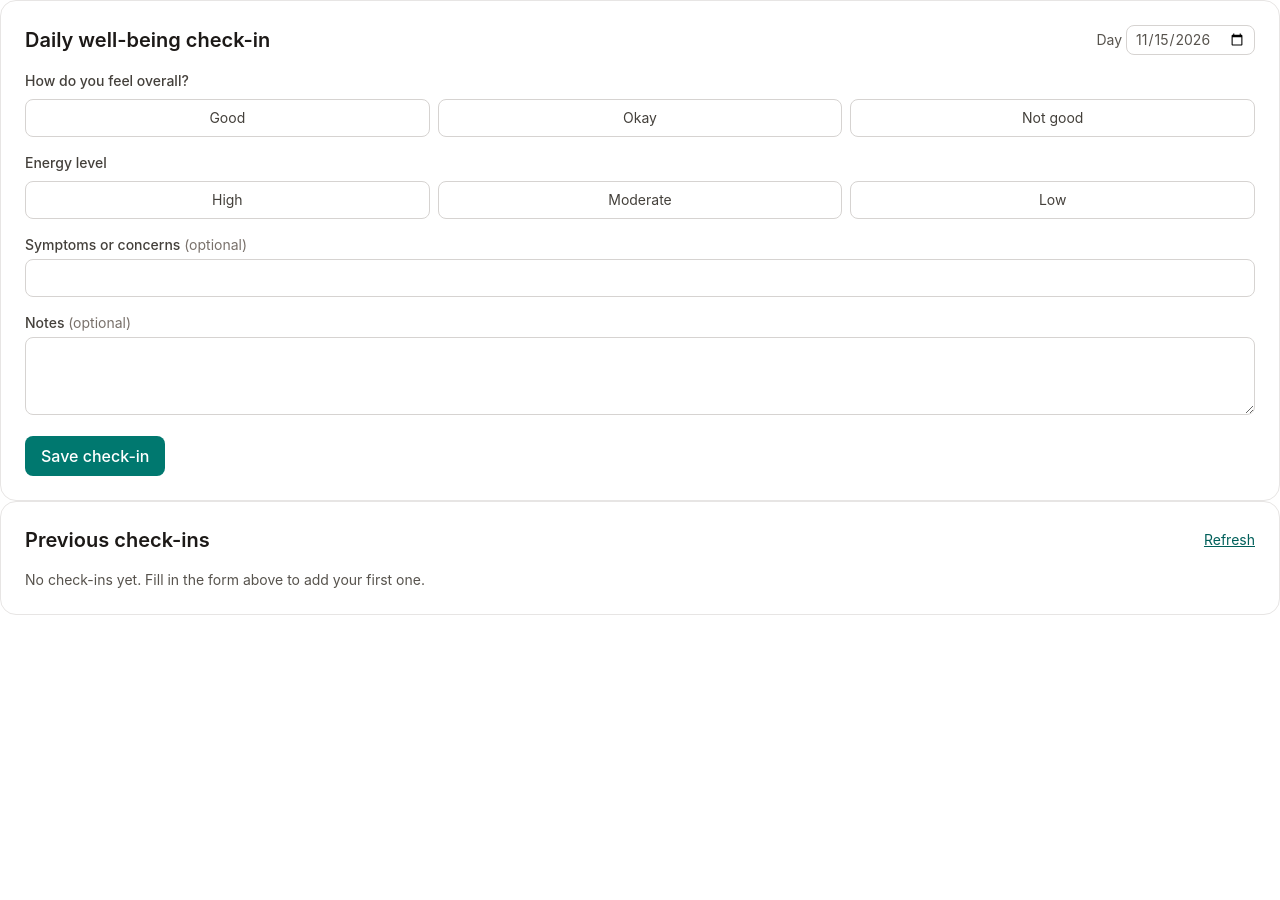
check-in form (parent) › shows the server message and keeps what was typed when saving fails
Expected: the button "Save check-in" is enabled, left=25, top=436, right=165, bottom=476
Click the radio button labelled "Good" at (227, 118), box left=25, top=99, right=430, bottom=137
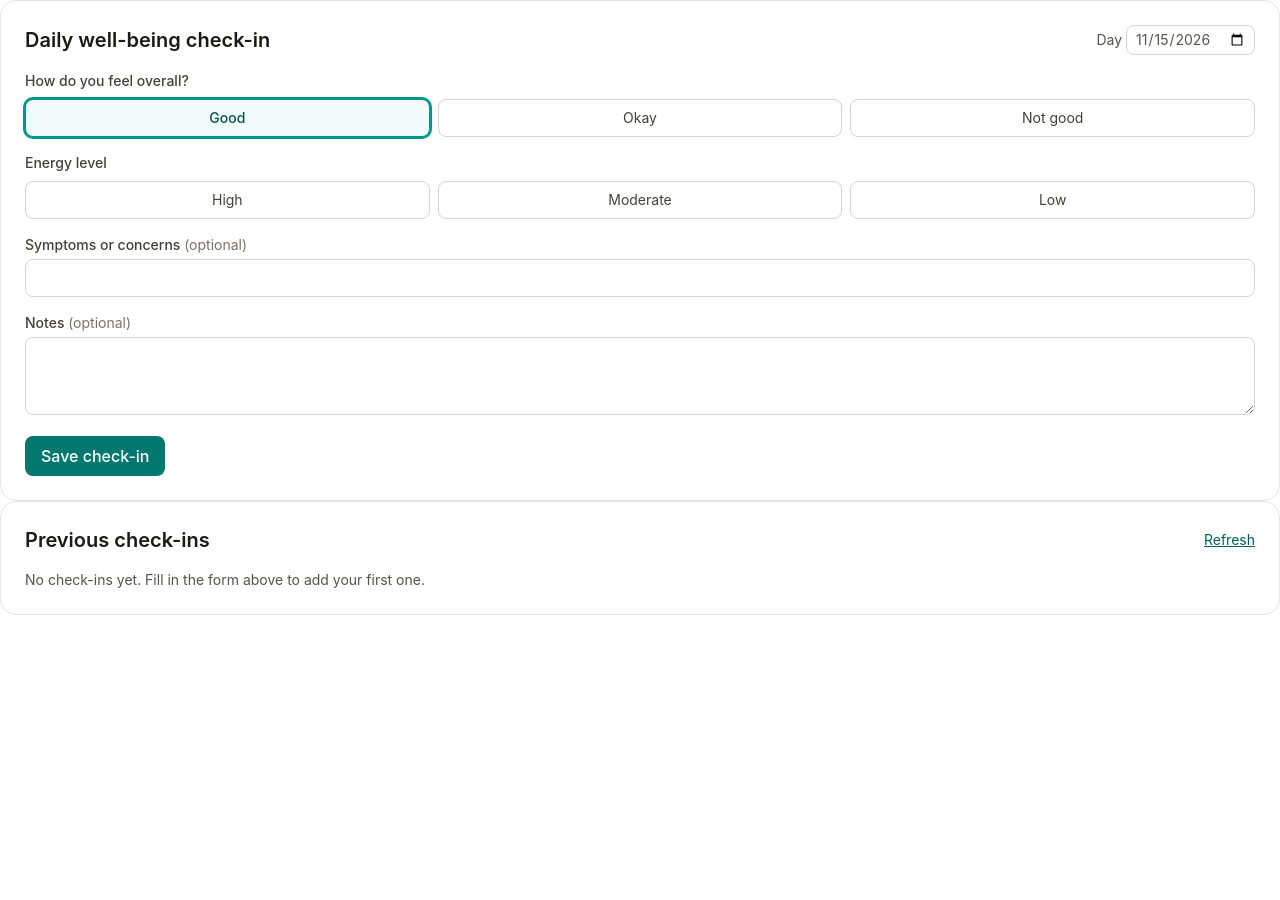
Click the radio button labelled "High" at (227, 200), box left=25, top=181, right=430, bottom=219
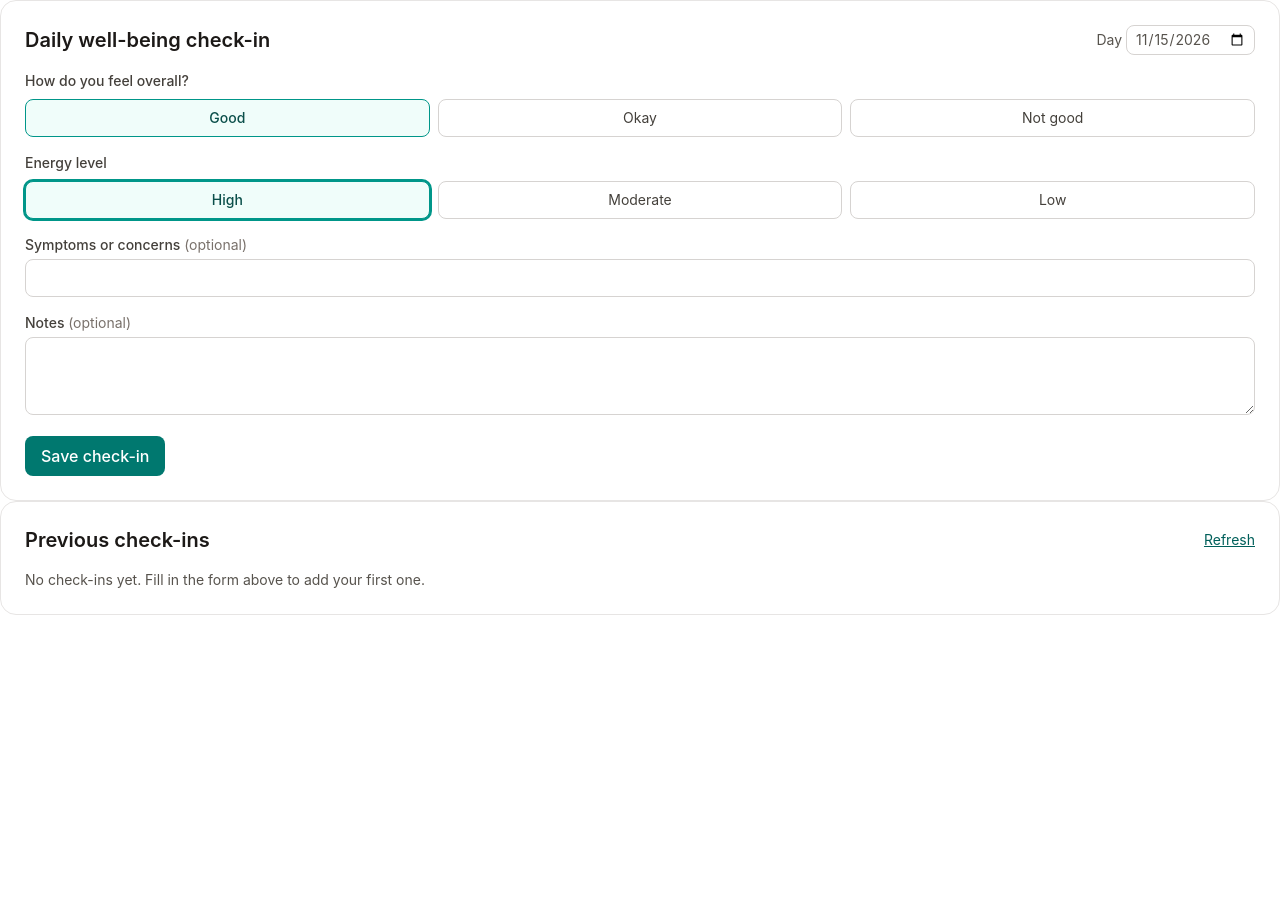
Type "my note" into the text box labelled "Notes (optional)" at (640, 376), box left=25, top=337, right=1255, bottom=415
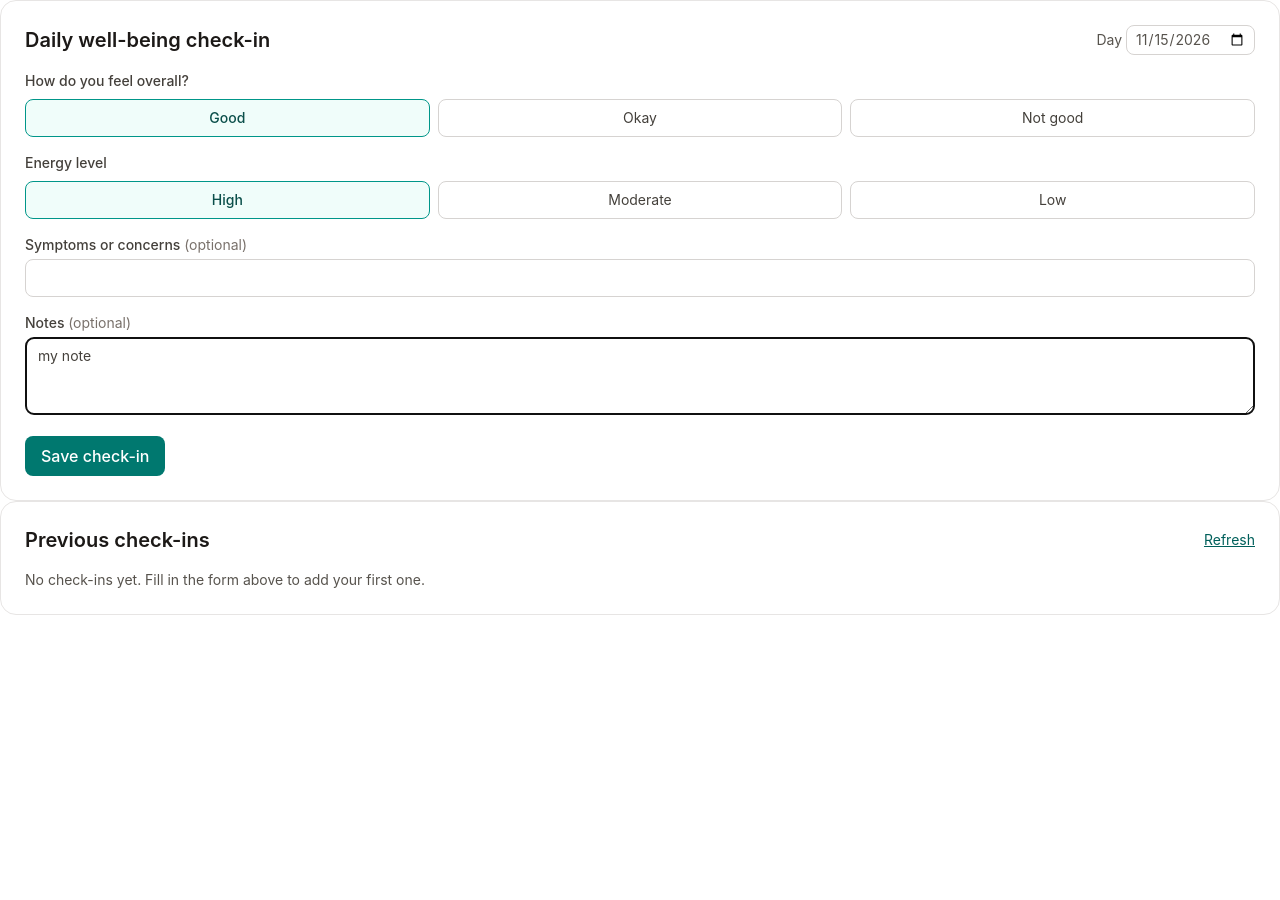
Click the button "Save check-in" at (95, 456), box left=25, top=436, right=165, bottom=476
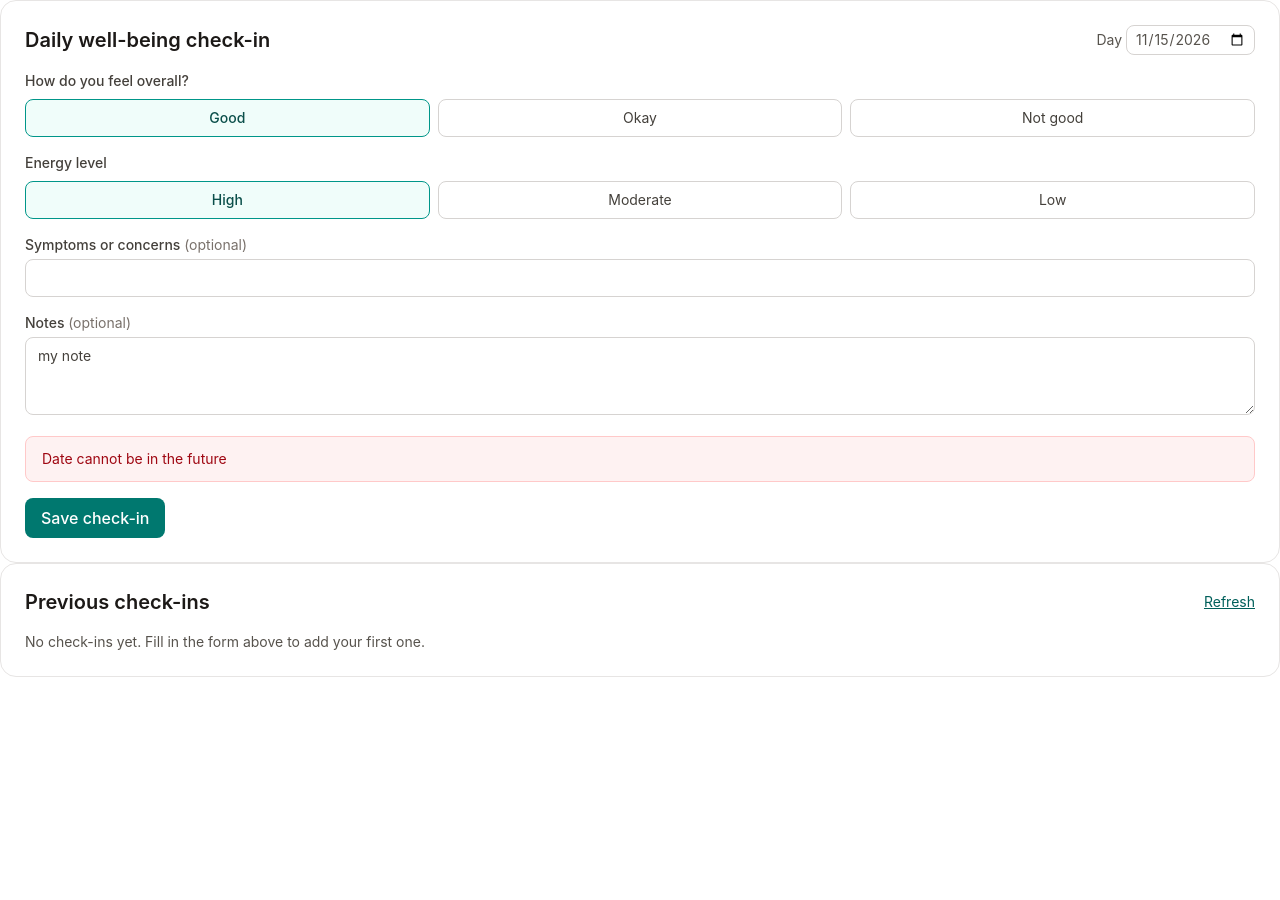
Now the message reads "Date cannot be in the future", box left=42, top=450, right=227, bottom=467
